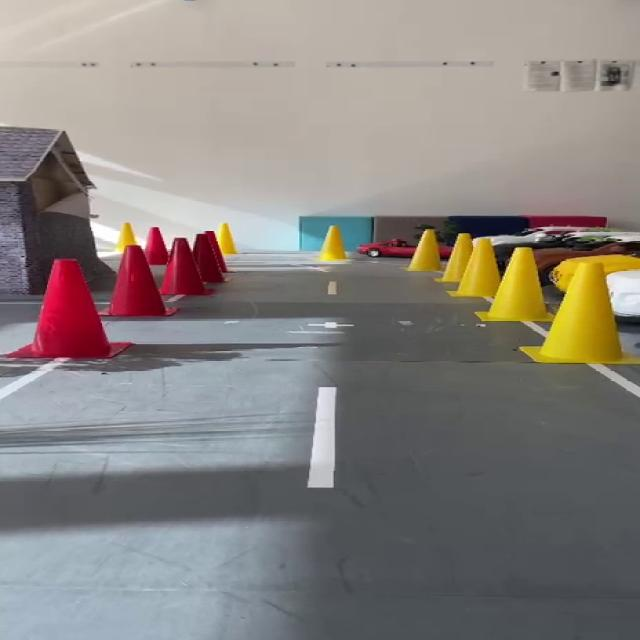Cone-red: (6, 261, 131, 358), (101, 245, 175, 315), (163, 238, 210, 295), (193, 232, 226, 284), (145, 227, 168, 265)
Cones-yellow: (520, 261, 639, 364), (479, 248, 550, 321), (450, 238, 499, 298), (437, 234, 472, 283), (407, 230, 440, 271), (319, 225, 346, 260), (215, 223, 237, 256), (116, 222, 135, 252)
